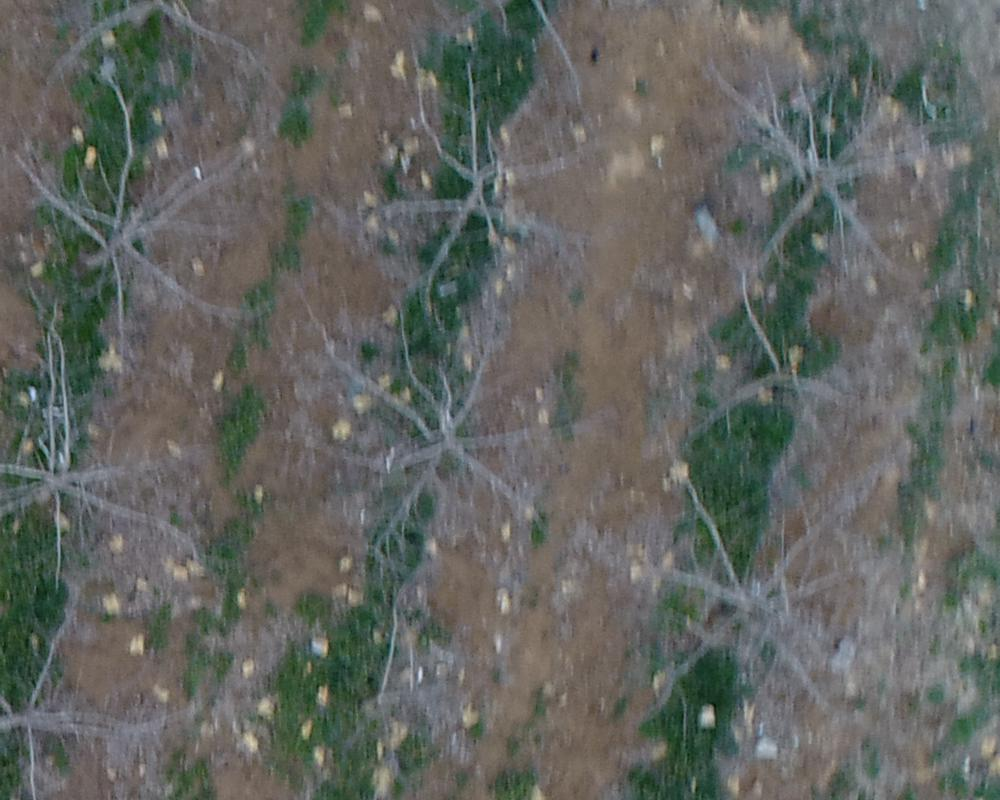apple: (334, 59, 620, 339), (286, 303, 580, 564), (577, 459, 868, 712), (684, 32, 948, 268), (10, 110, 273, 337), (10, 321, 230, 585), (654, 257, 916, 466), (10, 578, 162, 790)
